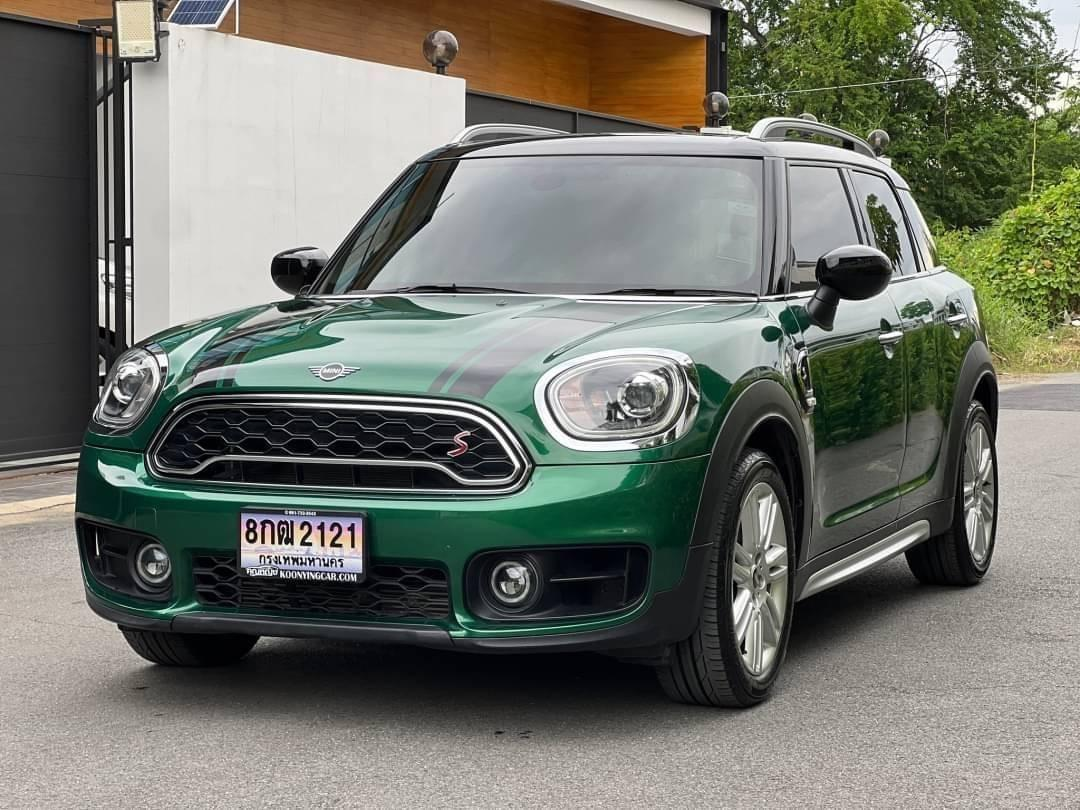license-plate: (238, 496, 371, 585)
